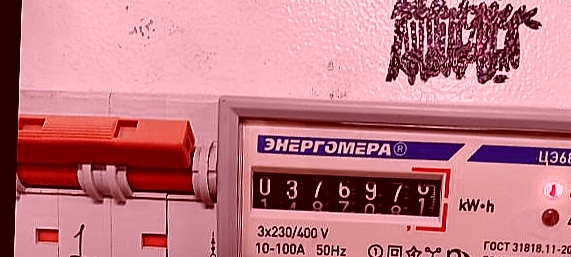0: (258, 174, 272, 196)
1: (415, 196, 428, 216)
3: (284, 177, 300, 200)
6: (337, 175, 352, 199)
7: (310, 175, 325, 199), (390, 180, 405, 203)
9: (362, 178, 378, 201)
screen: (241, 156, 454, 236)
